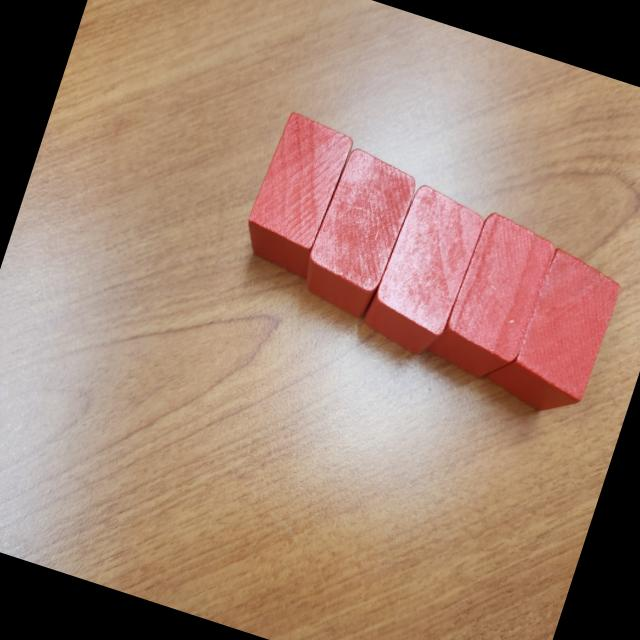red: (477, 238, 627, 424), (422, 205, 562, 394), (357, 180, 490, 363), (295, 144, 422, 322), (236, 108, 358, 279)
